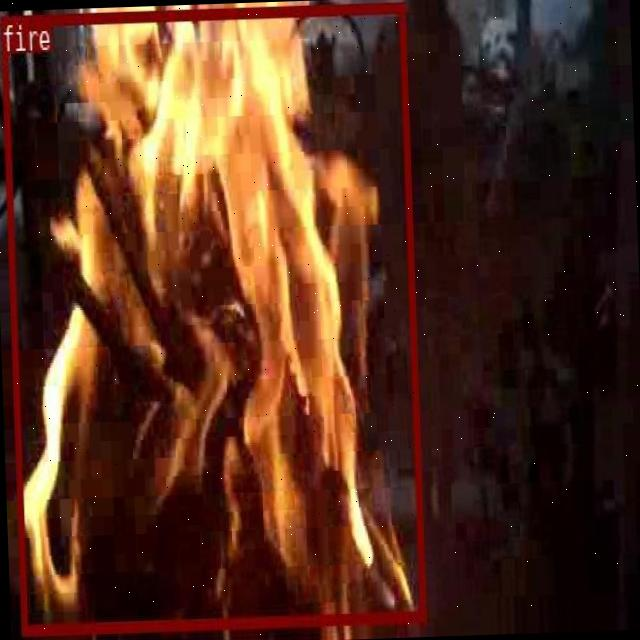fire: (0, 1, 425, 633)
